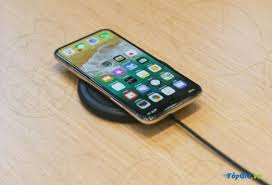iphone: (50, 25, 201, 124)
iphone10: (52, 27, 203, 126)
